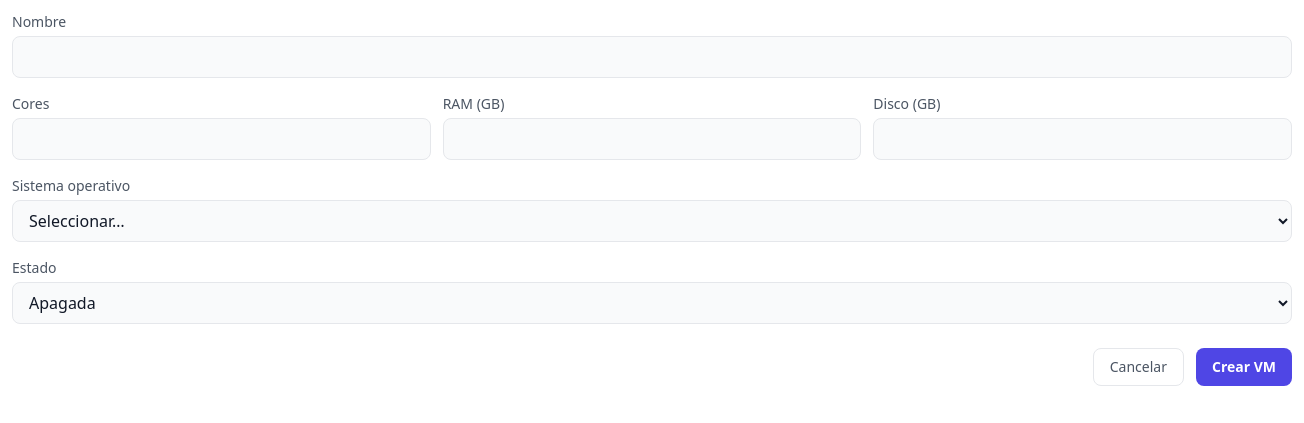
it: VMForm — validaciones (SDD §14.2) › muestra error de nombre requerido al perder foco con campo vacío
Click the field labelled "Nombre" at (652, 57), box x1=12 y1=36 x2=1292 y2=78
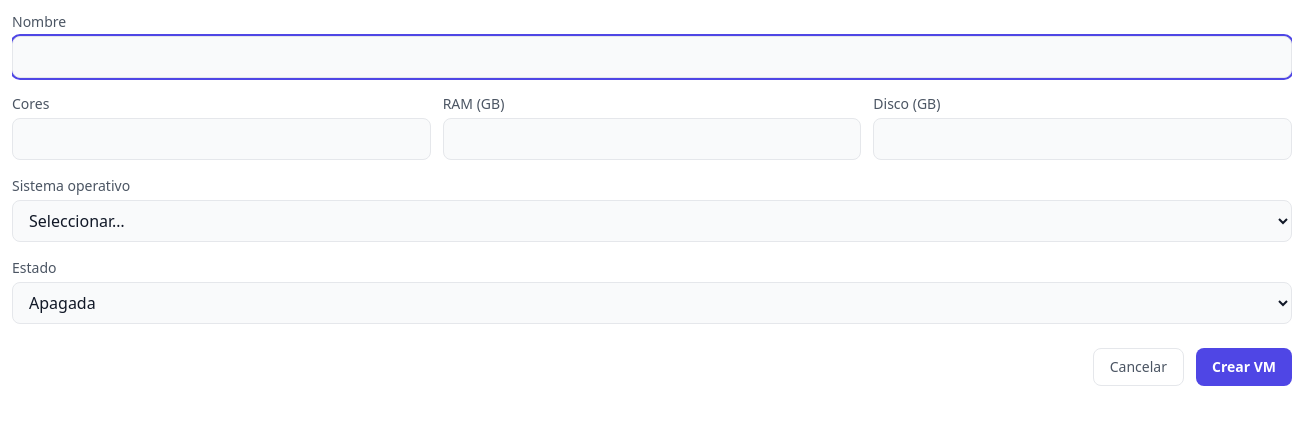
Press Tab
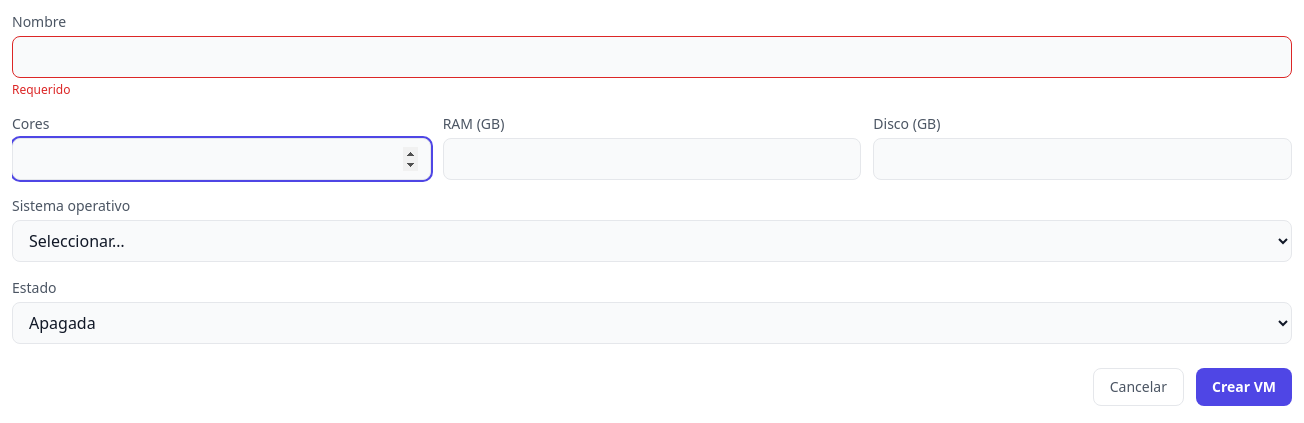
Expected: the text "Requerido" is shown, x1=12 y1=81 x2=70 y2=98
